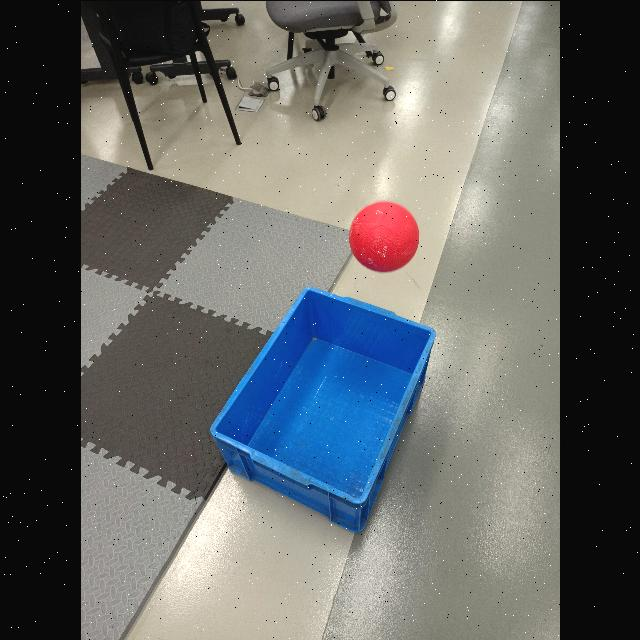R: (348, 201, 419, 273)
